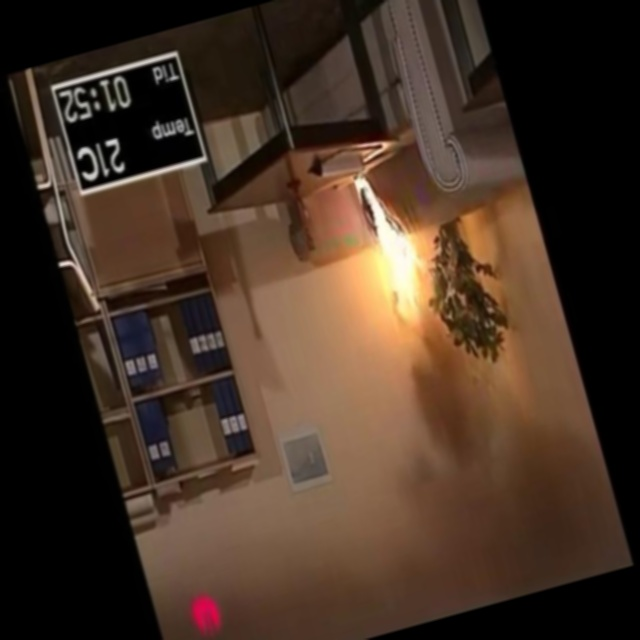fire: (335, 165, 439, 328)
